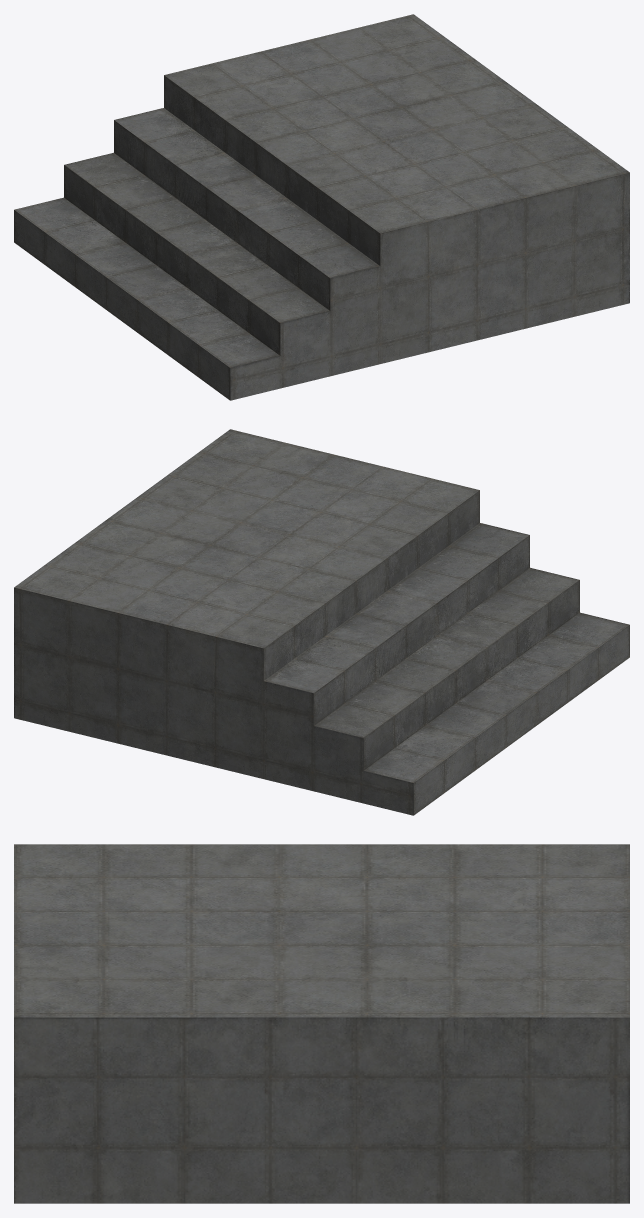
File: SM_Stairs_01.fbx
3 views of the same model, one above another, from view 1: azimuth 30°, elevation 25°; view 2: azimuth 150°, elevation 25°; view 3: azimuth 270°, elevation 25° (orthographic). The views are drawn at different scales.
Parts seen in each view (by area): view 1: SM_Stairs_01_LOD0; view 2: SM_Stairs_01_LOD0; view 3: SM_Stairs_01_LOD0.
Part boxes in pixels (x1,y1,x2,y2): SM_Stairs_01_LOD0: (14, 14, 629, 400); SM_Stairs_01_LOD0: (14, 429, 629, 815); SM_Stairs_01_LOD0: (14, 844, 629, 1203).
Size of the model in its own units: 160 by 150 by 50.
